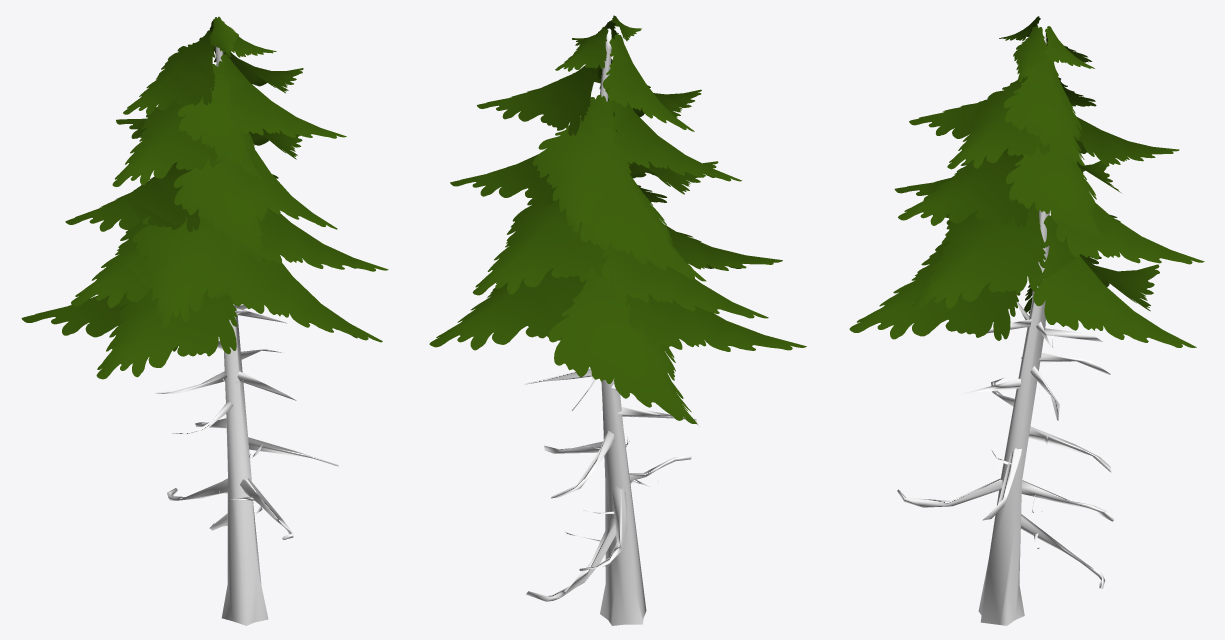
The model's file is pine-3-distant.glb.
The picture shows the model from 3 angles, left to right: view 1: azimuth 30°, elevation 25°; view 2: azimuth 150°, elevation 25°; view 3: azimuth 270°, elevation 25°; orthographic projection. The views are drawn at different scales.
Parts seen in each view (by area): view 1: Pine_3; view 2: Pine_3; view 3: Pine_3.
Boxes of the visible parts, <box> form: Pine_3: <box>21,16,388,625</box>; Pine_3: <box>429,15,806,625</box>; Pine_3: <box>849,16,1204,625</box>.
Size of the model in its own units: 3.61 by 7.16 by 4.
2 materials, 1 textured.
